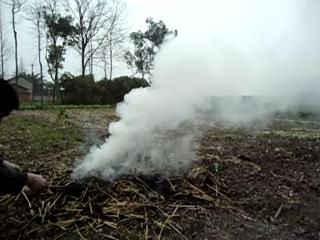yanwu: (82, 38, 292, 173)
